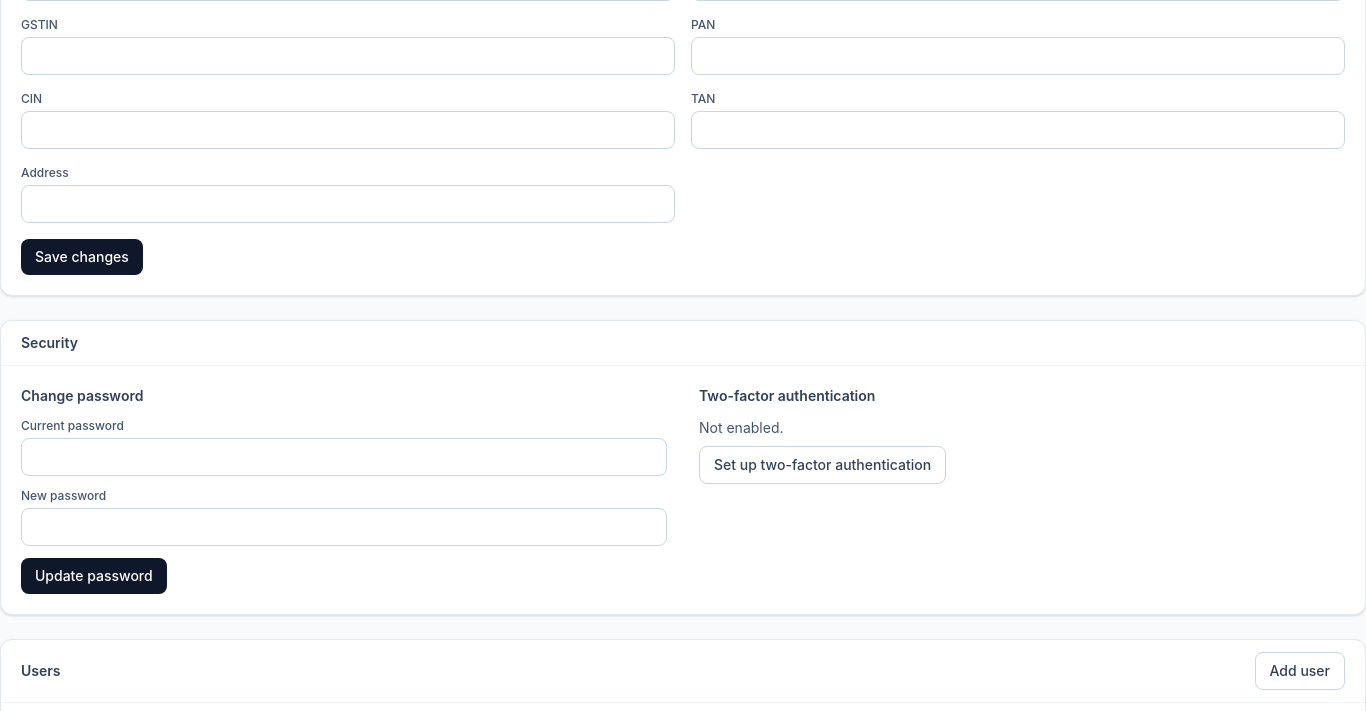
SettingsPage › SecurityCard — password › shows the server's error message when the current password is wrong
The image size is (1366, 711).
(page scrolled)
Step 1. Type "wrong" into the password field labelled "Current password" → (344, 457), box [21,438,667,476]
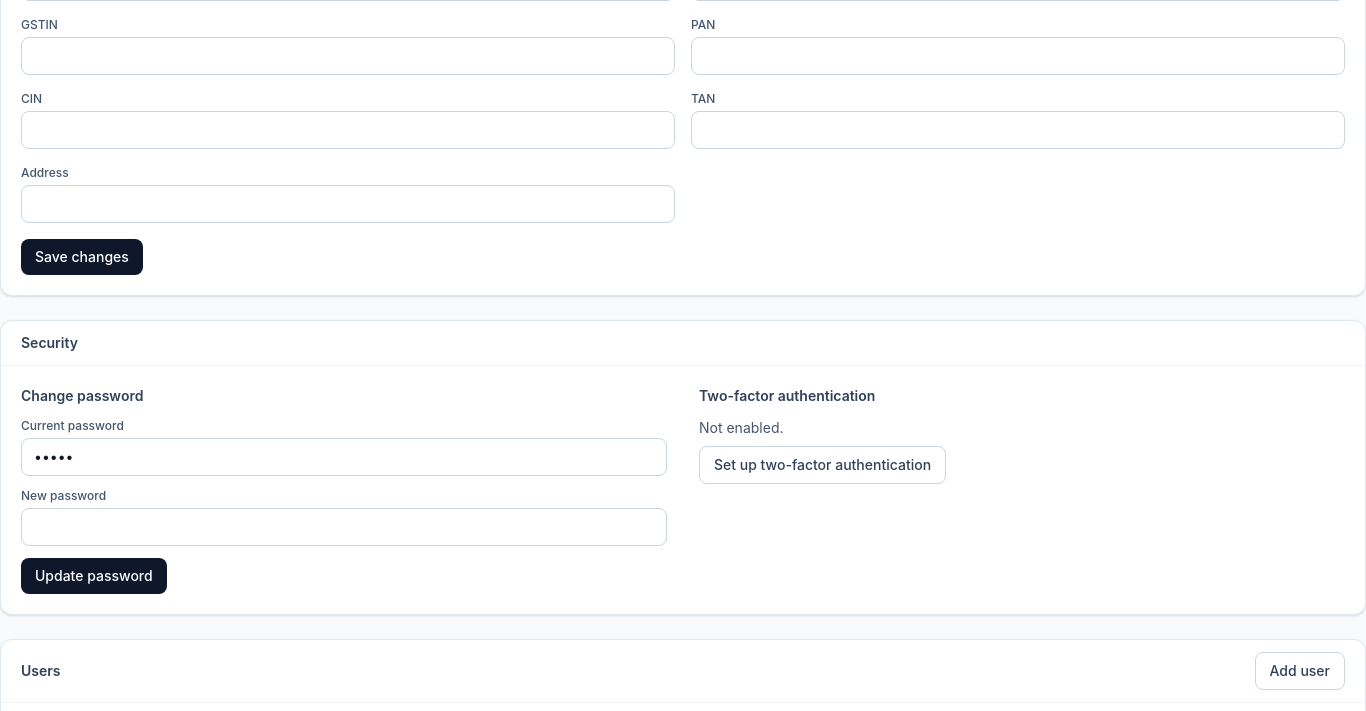
Step 2. Type "new-pw-67890" into the password field labelled "New password" → (344, 527), box [21,508,667,546]
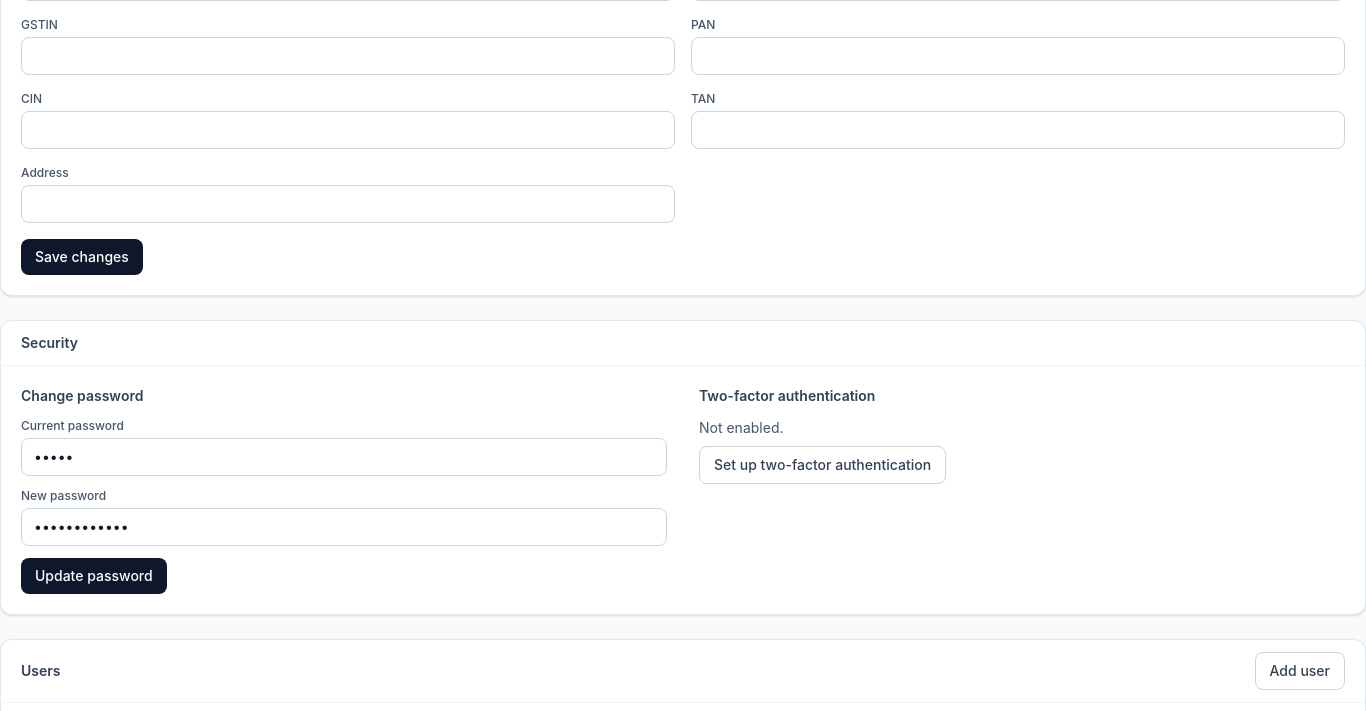
Step 3. Click the button "Update password" → (94, 576), box [21,558,167,594]
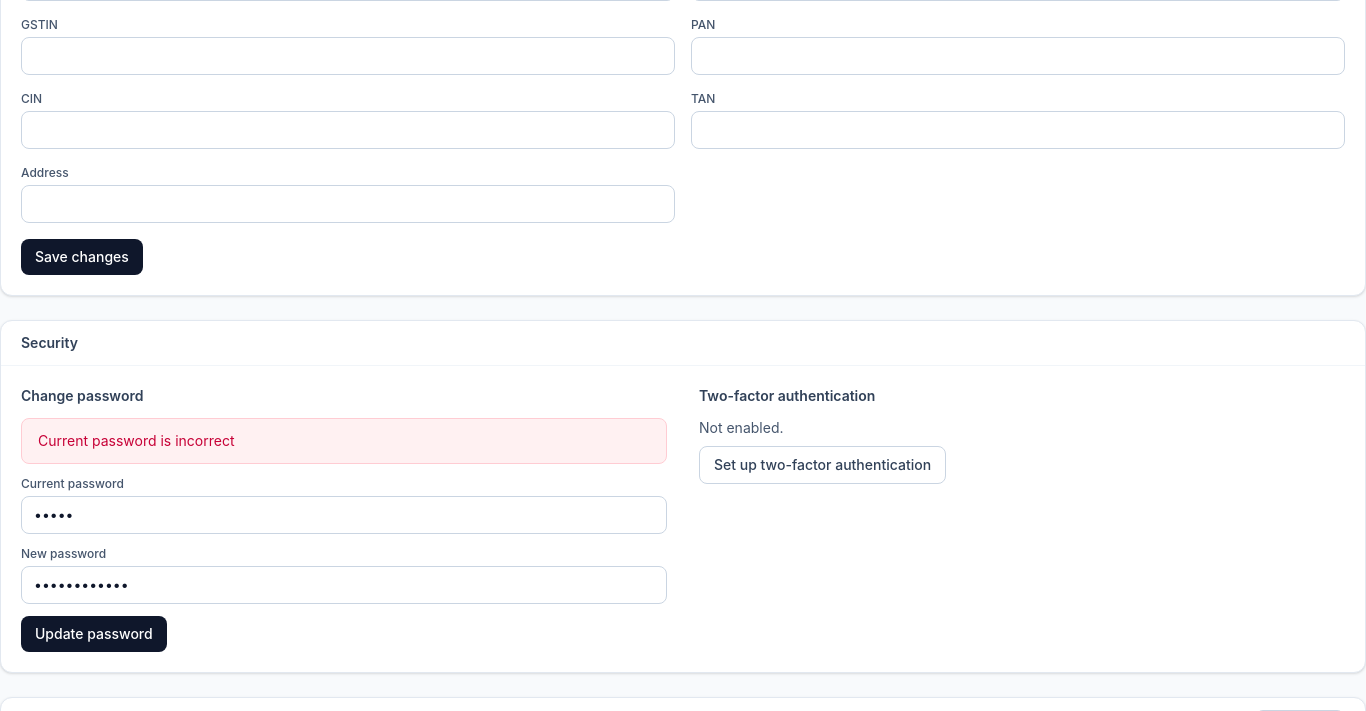
Result: the text "Current password is incorrect" is shown at [21,418,667,464]
